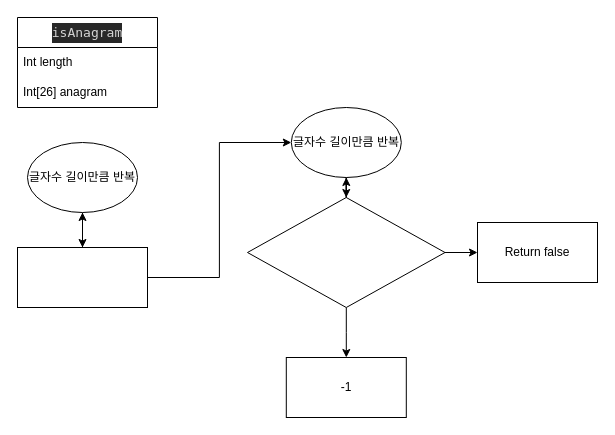
Some shapes in this 615 by 435 pixel diagram are drawn without their labels. The box of each missing label's shape, as (x1, y1, x2, y2) in pixels:
anagram[ int(s[i] ) - int(a) ]++: (16, 246, 148, 308)
anagram[ int(t[i] - int(a) ] 가 있는가: (246, 196, 445, 308)
